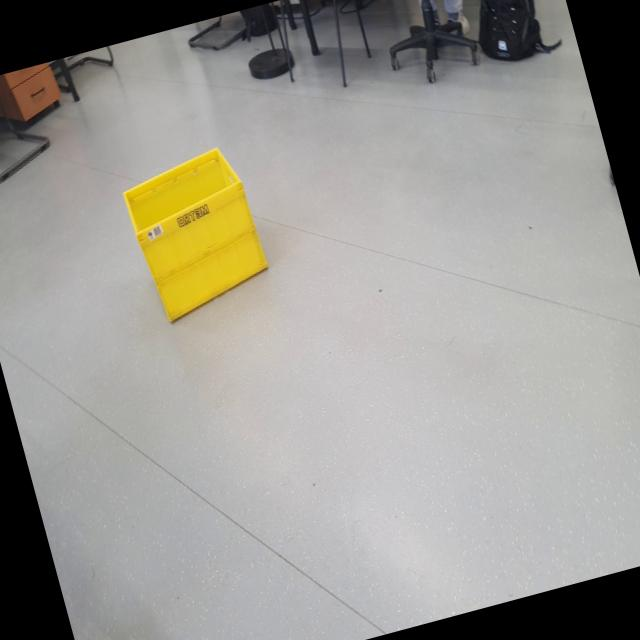box: (109, 119, 289, 346)
